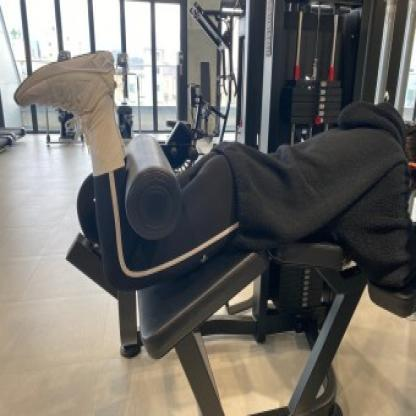reg curl machine: (12, 0, 416, 416)
